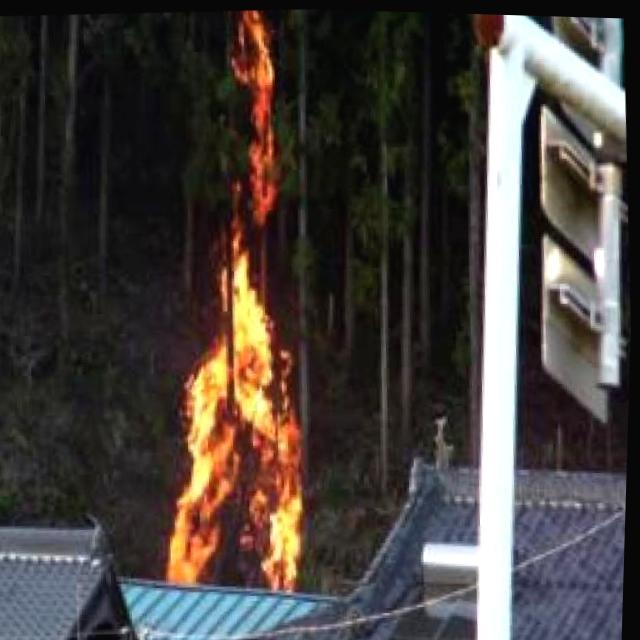helmet: (136, 9, 324, 588)
